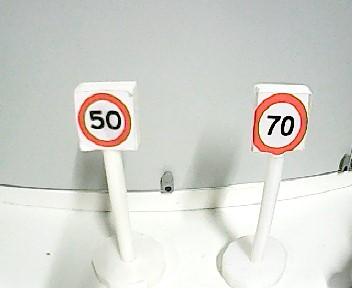50-bord: (77, 93, 132, 148)
70-bord: (254, 92, 309, 154)
